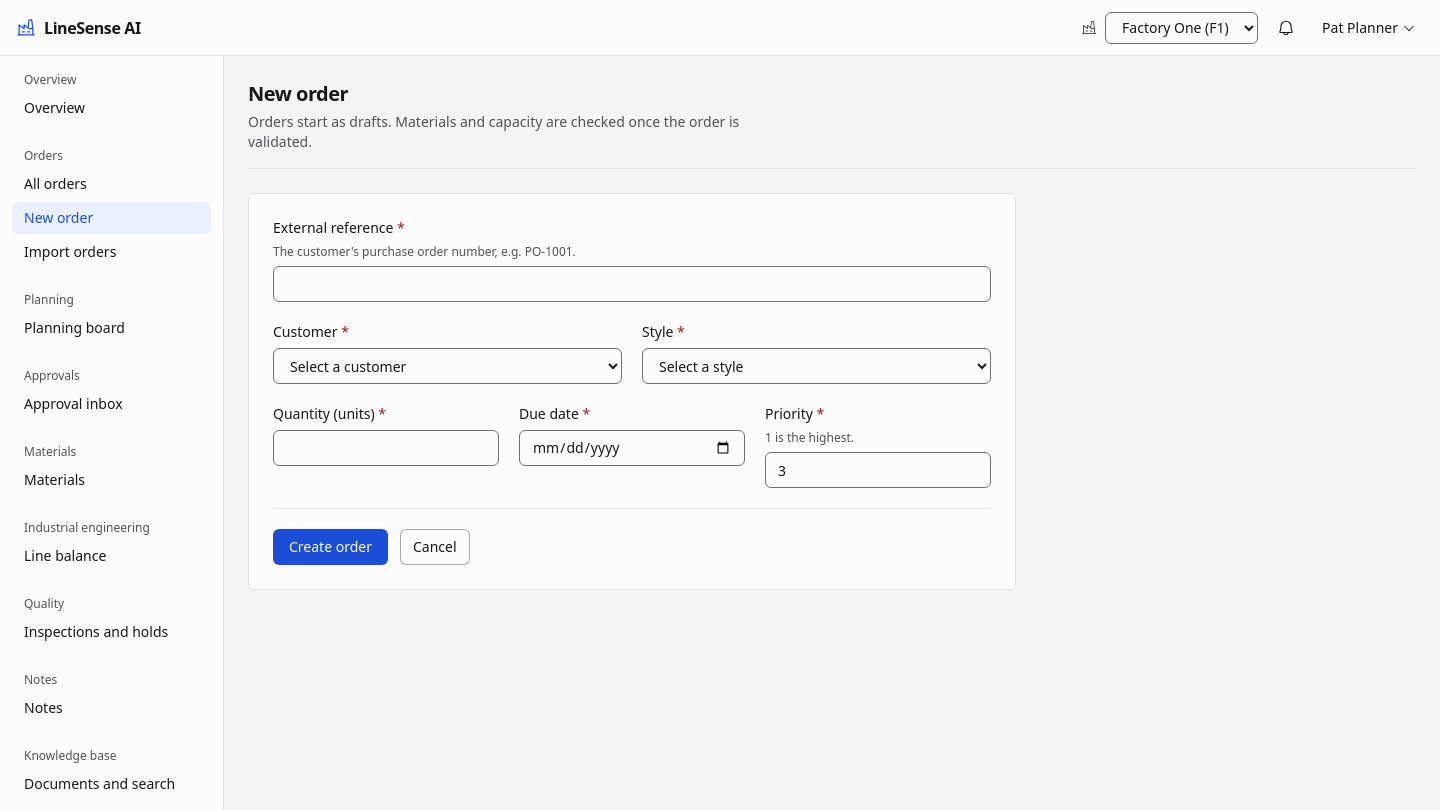
OrderCreatePage › maps a 409 duplicate onto the external reference field and keeps the input
Type "PO-2001" into the field labelled "External reference *" at (632, 284), box [273, 266, 991, 302]
Select "Northwind Apparel (CUST-001)" in the dropdown labelled "Customer *" at (448, 366), box [273, 348, 622, 384]
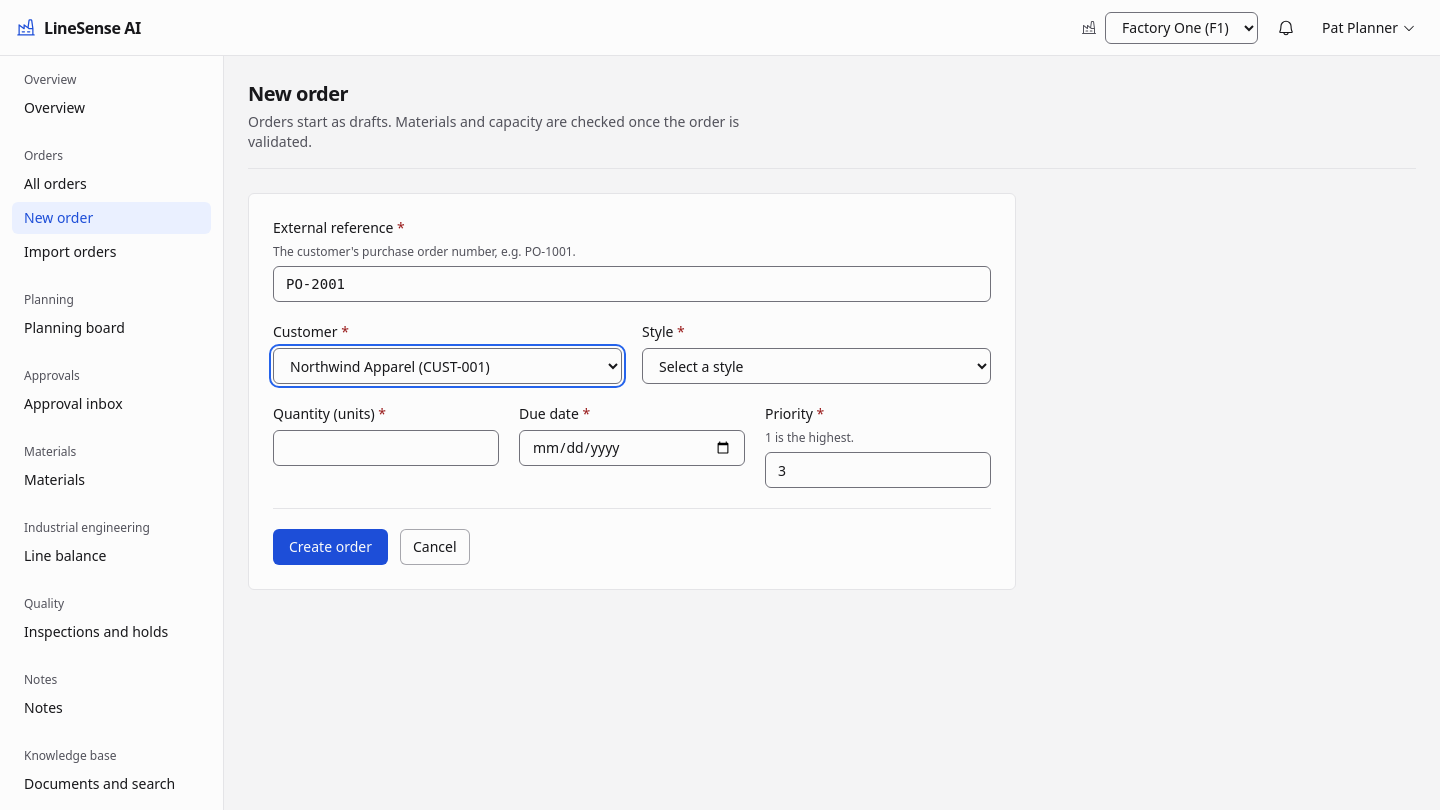
Select "Crew-neck tee (STY-001)" in the dropdown labelled "Style *" at (816, 366), box [642, 348, 991, 384]
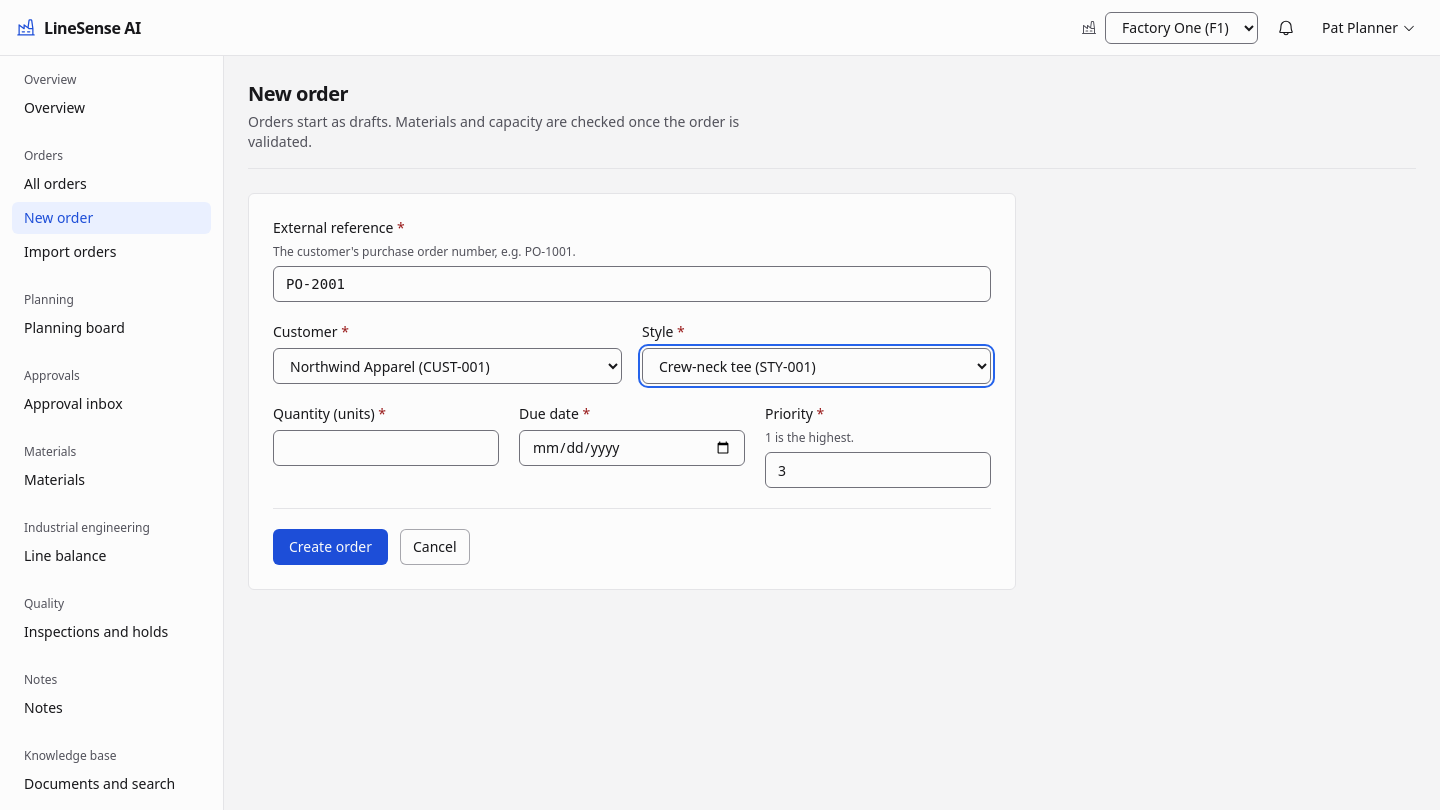
Type "500" into the number field labelled "Quantity (units) *" at (386, 448), box [273, 430, 499, 466]
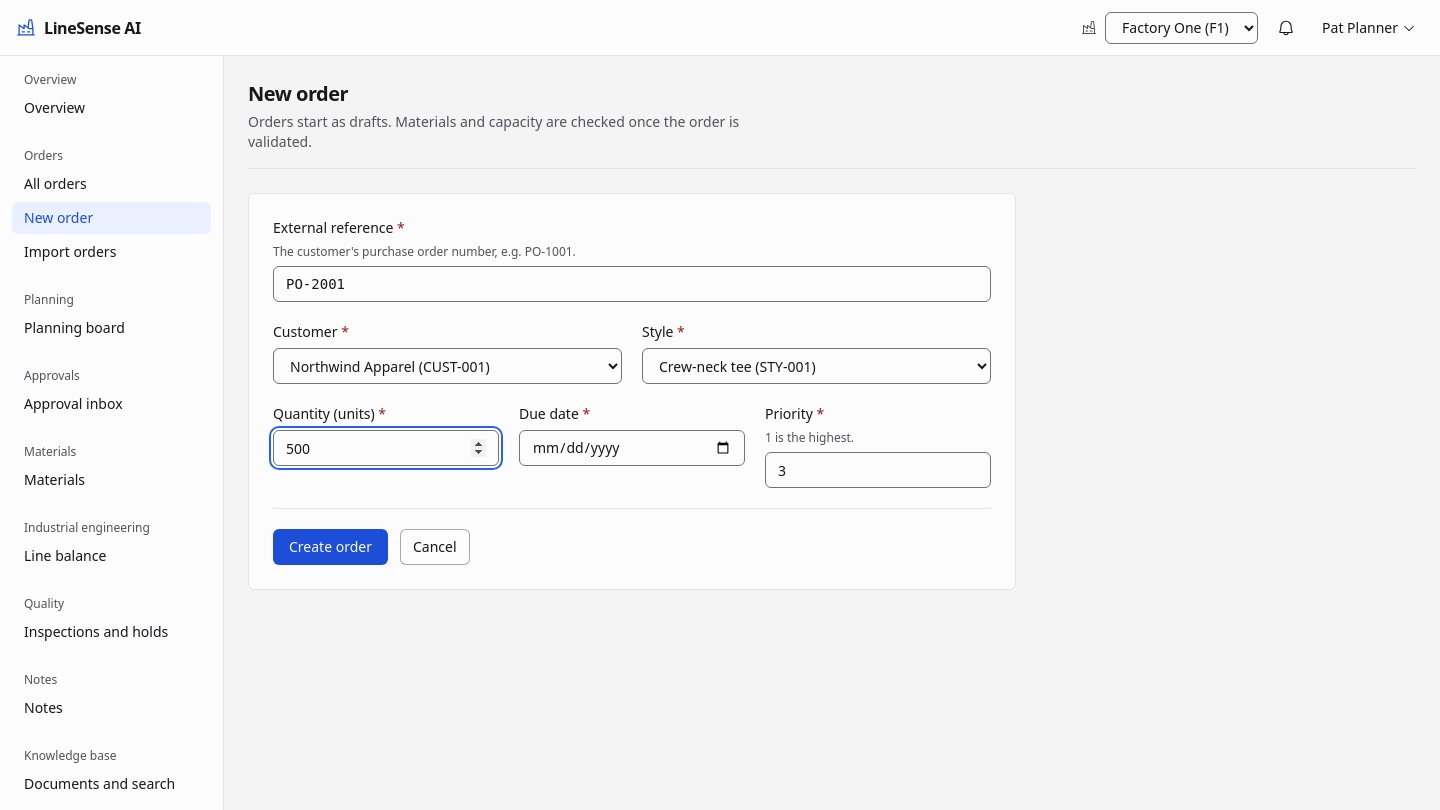
Type "2026-12-31" into the date field labelled "Due date *" at (632, 448), box [519, 430, 745, 466]
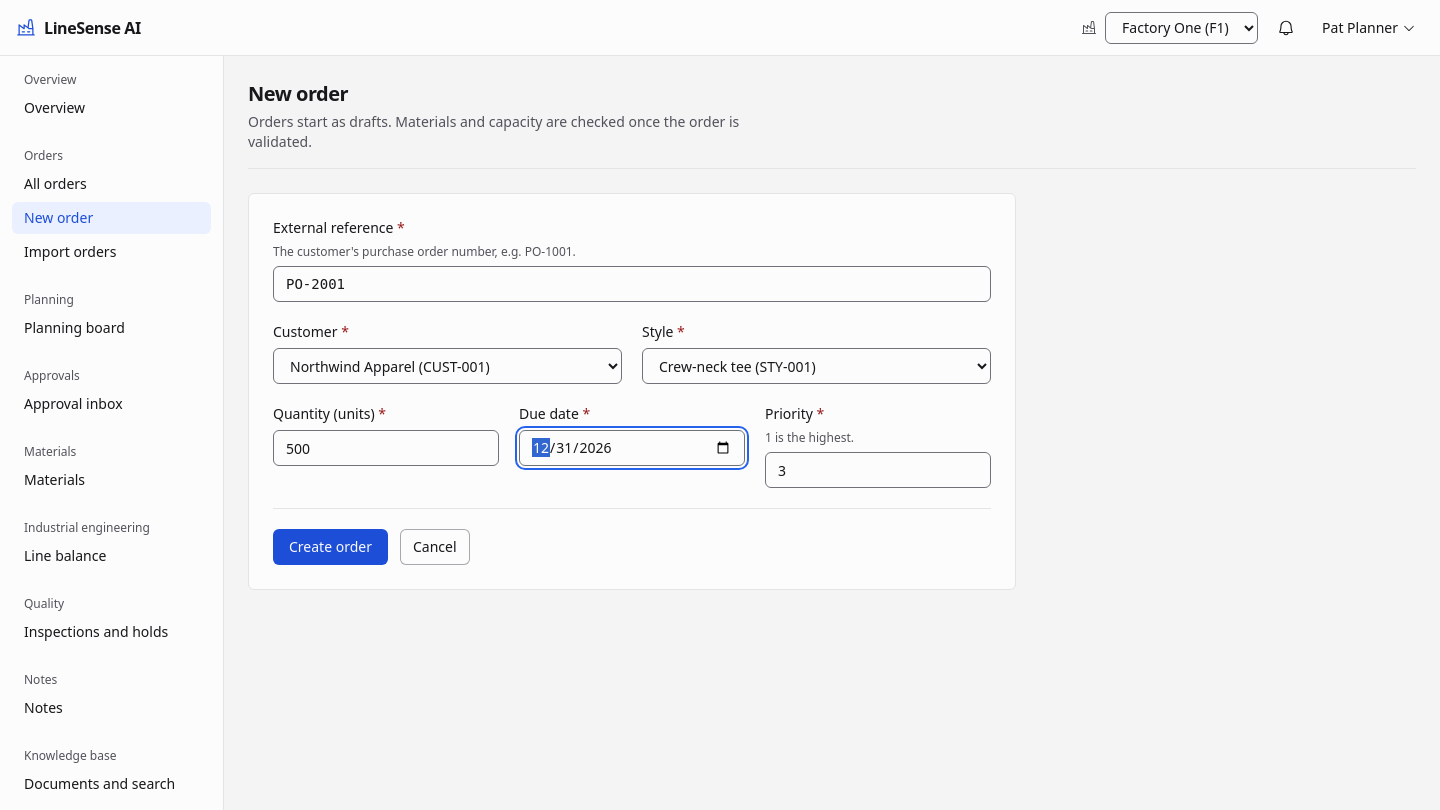
Replace the text in the number field labelled "Priority *" with "2" at (878, 470), box [765, 452, 991, 488]
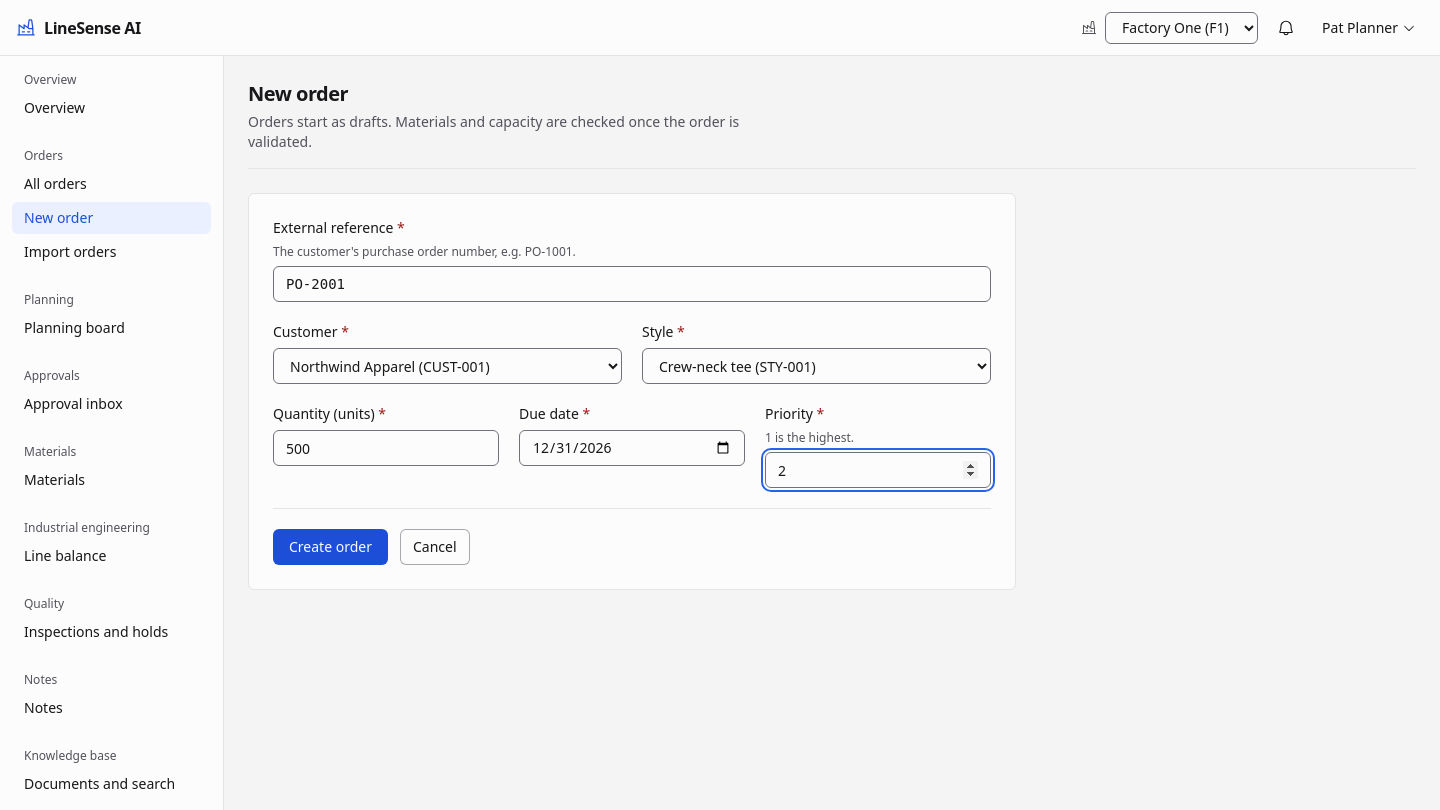
Click the button "Create order" at (330, 547), box [273, 529, 388, 565]
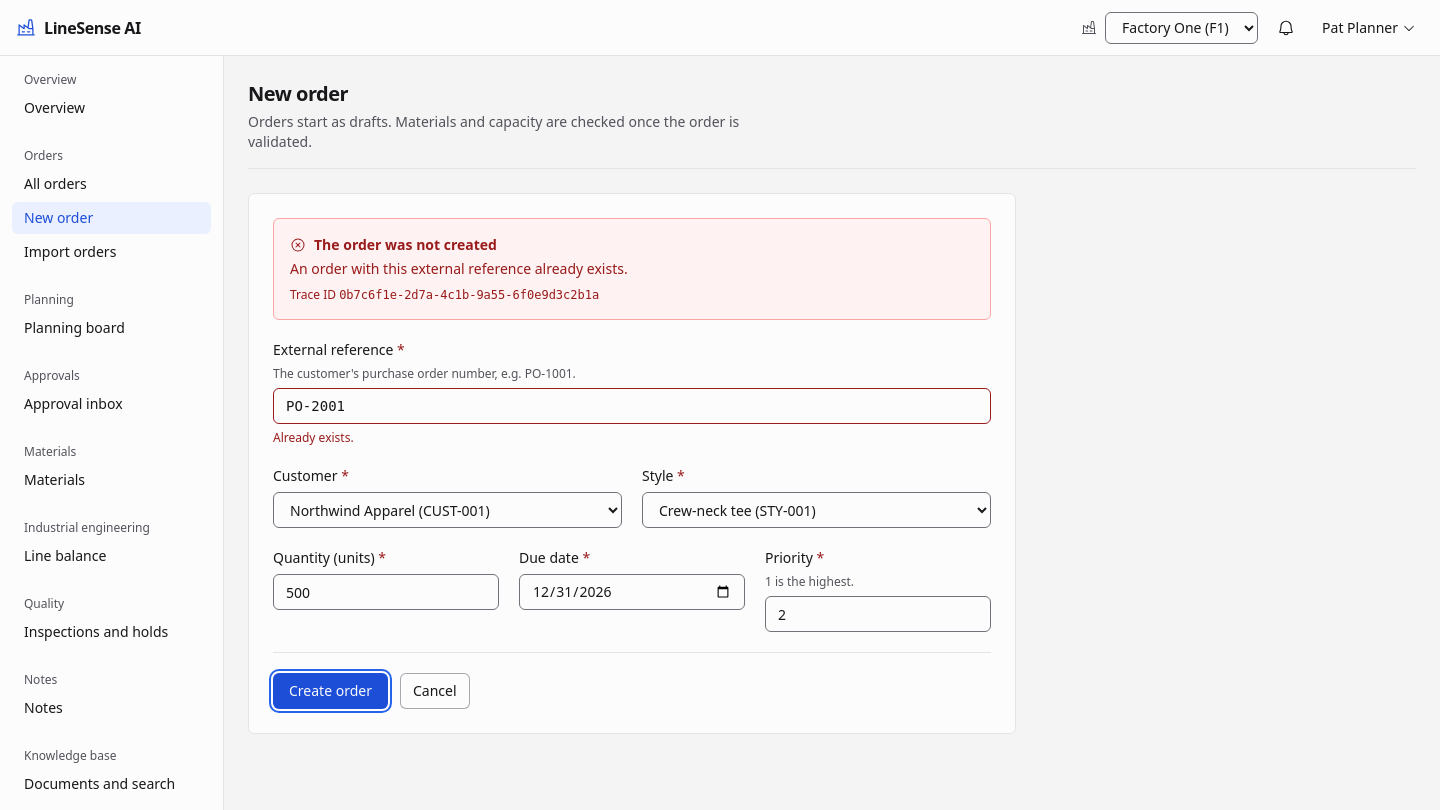
Expected: the text "Already exists." is shown, [273, 429, 354, 446]
Expected: the message shows "0b7c6f1e-2d7a-4c1b-9a55-6f0e9d3c2b1a", [339, 288, 599, 302]
